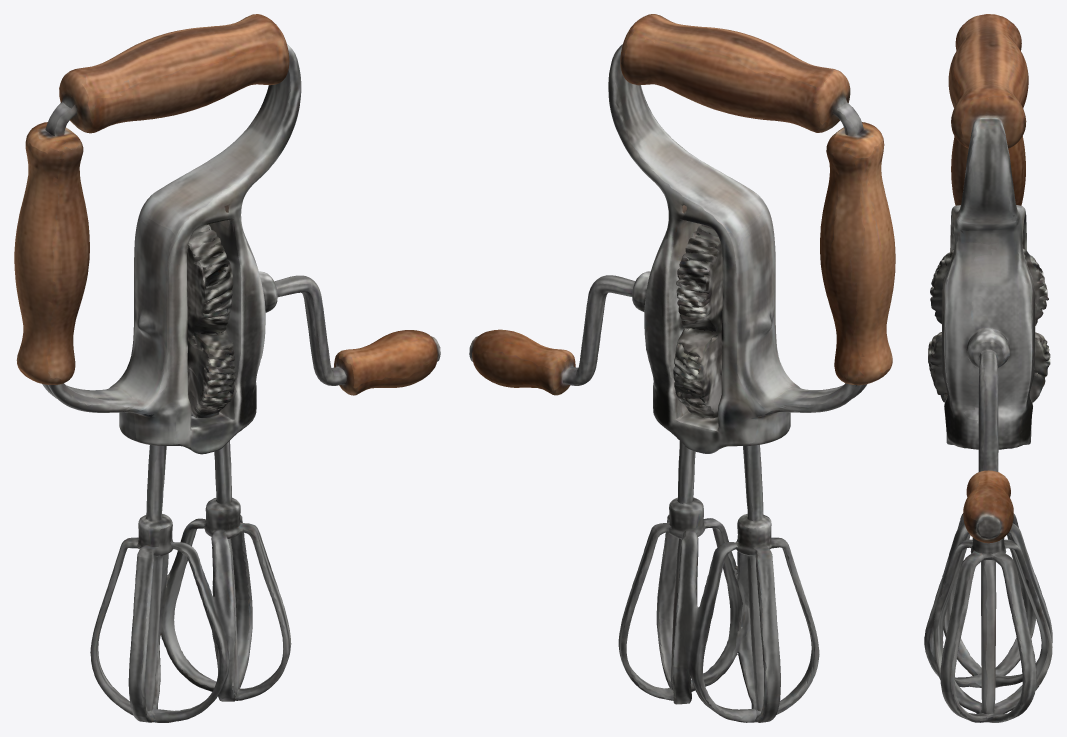
Rendered from parts.glb.
3 views of the same model, side by side, from view 1: azimuth 30°, elevation 25°; view 2: azimuth 150°, elevation 25°; view 3: azimuth 270°, elevation 25° (orthographic). The views are drawn at different scales.
Size of the model in its own units: 0.225 by 0.35 by 0.0628.
6 materials, 6 textured.
